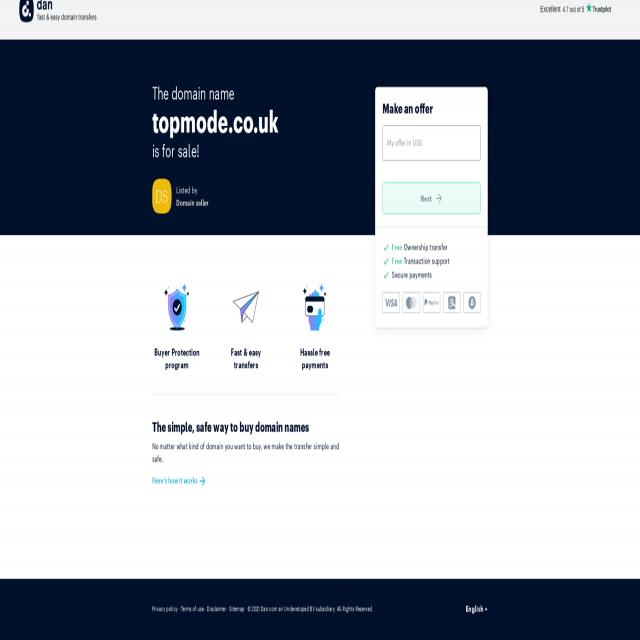button: (466, 604, 488, 614), (382, 255, 390, 268), (382, 269, 390, 282), (382, 242, 390, 254), (199, 475, 206, 487), (436, 192, 442, 204)
field: (382, 125, 481, 161)
